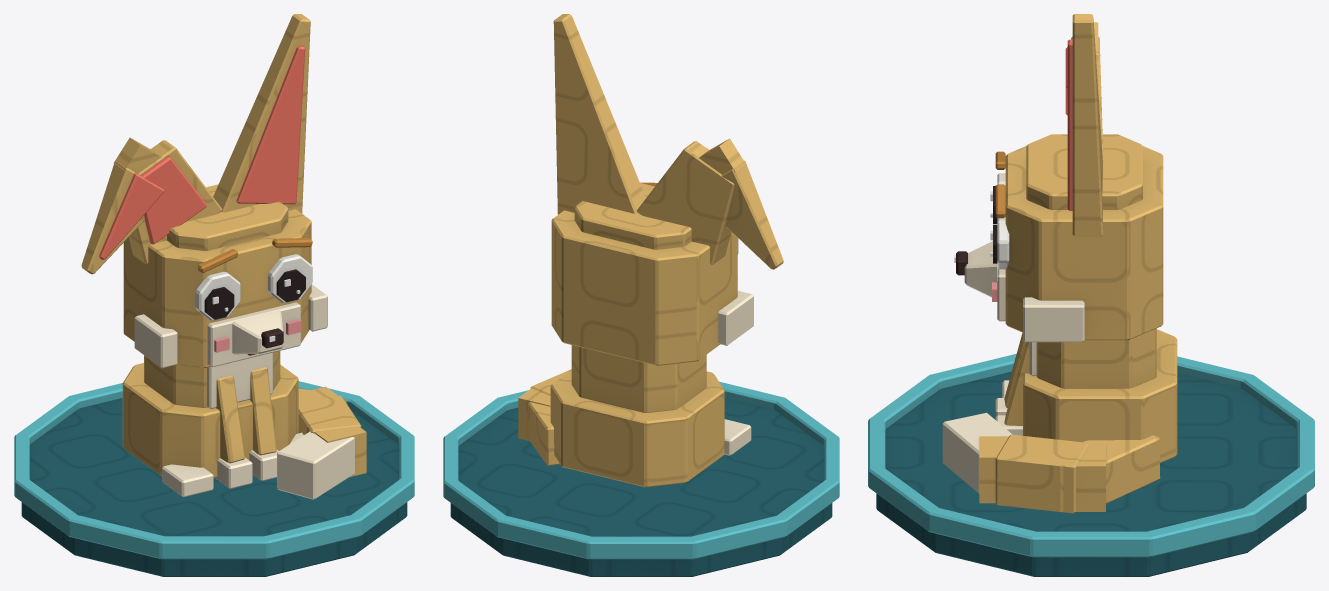
File: FloppyFennec.fbx
3 views of the same model, side by side, from view 1: azimuth 30°, elevation 25°; view 2: azimuth 150°, elevation 25°; view 3: azimuth 270°, elevation 25° (orthographic). The views are drawn at different scales.
Parts seen in each view (by area): view 1: Art_FloppyFennec_Stand, Art_FloppyFennec_Head, Art_FloppyFennec_Body, Art_FloppyFennec_EarR, Art_FloppyFennec_EarL, Art_FloppyFennec_Tail; view 2: Art_FloppyFennec_Stand, Art_FloppyFennec_Head, Art_FloppyFennec_Body, Art_FloppyFennec_EarR, Art_FloppyFennec_EarL, Art_FloppyFennec_Tail; view 3: Art_FloppyFennec_Stand, Art_FloppyFennec_Head, Art_FloppyFennec_Body, Art_FloppyFennec_Tail, Art_FloppyFennec_EarR, Art_FloppyFennec_EarL.
Boxes of the visible parts, bbox=[...] form: Art_FloppyFennec_Stand: bbox=[14, 381, 414, 576]; Art_FloppyFennec_Head: bbox=[123, 184, 327, 368]; Art_FloppyFennec_Body: bbox=[122, 351, 303, 497]; Art_FloppyFennec_EarR: bbox=[213, 14, 310, 213]; Art_FloppyFennec_EarL: bbox=[81, 137, 221, 274]; Art_FloppyFennec_Tail: bbox=[277, 386, 366, 499]; Art_FloppyFennec_Stand: bbox=[443, 381, 839, 576]; Art_FloppyFennec_Head: bbox=[551, 182, 753, 365]; Art_FloppyFennec_Body: bbox=[550, 345, 751, 487]; Art_FloppyFennec_EarR: bbox=[553, 14, 645, 214]; Art_FloppyFennec_EarL: bbox=[637, 138, 783, 269]; Art_FloppyFennec_Tail: bbox=[518, 369, 571, 465]; Art_FloppyFennec_Stand: bbox=[868, 353, 1314, 576]; Art_FloppyFennec_Head: bbox=[954, 134, 1163, 342]; Art_FloppyFennec_Body: bbox=[995, 328, 1177, 462]; Art_FloppyFennec_Tail: bbox=[942, 412, 1160, 513]; Art_FloppyFennec_EarR: bbox=[1067, 14, 1103, 236]; Art_FloppyFennec_EarL: bbox=[1065, 22, 1103, 160].
Size of the model in its own units: 2.61 by 3.33 by 2.61.
